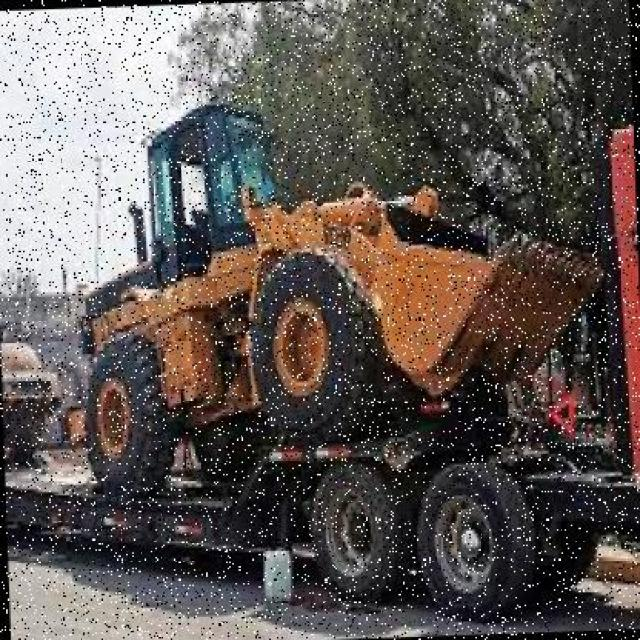buldozerpayloadergrader: (67, 79, 618, 498)
